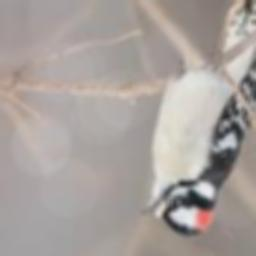Woodpecker: (141, 0, 256, 236)
